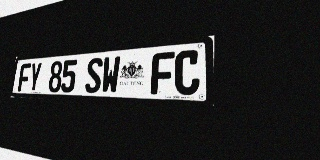5: (61, 59, 77, 93)
8: (48, 60, 64, 92)
C: (174, 49, 200, 95)
F: (150, 51, 175, 95), (18, 63, 31, 92)
S: (85, 57, 103, 93)
W: (101, 56, 121, 94)
Y: (28, 62, 42, 92)
